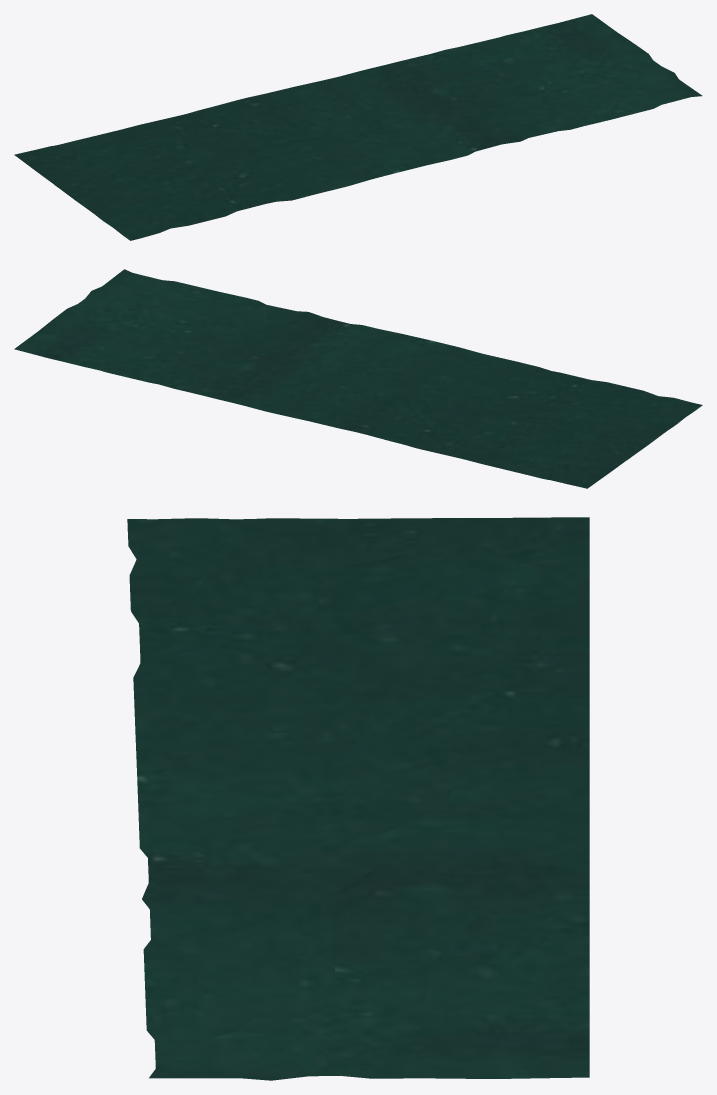
3 renders of one model, top to bottom at view 1: azimuth 30°, elevation 25°; view 2: azimuth 150°, elevation 25°; view 3: azimuth 270°, elevation 25°, orthographic. The views are drawn at different scales.
Size of the model in its own units: 173 by 0.5196 by 60.33.
1 material, 1 textured.
